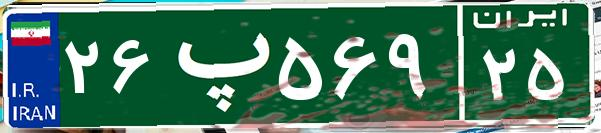2: (57, 26, 110, 107), (475, 38, 525, 113)
5: (273, 28, 330, 110), (525, 38, 570, 115)
6: (330, 28, 385, 110), (110, 28, 158, 105)
9: (385, 28, 445, 110)
پ: (158, 15, 273, 115)
